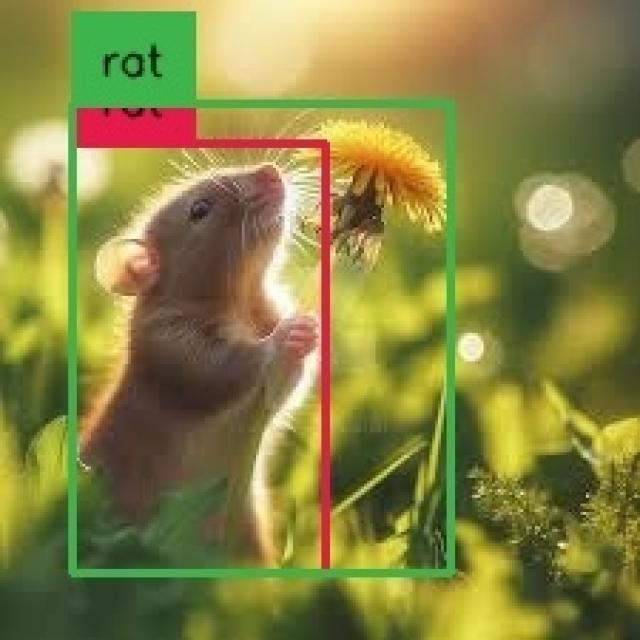rat: (72, 105, 451, 575), (72, 145, 326, 572)
